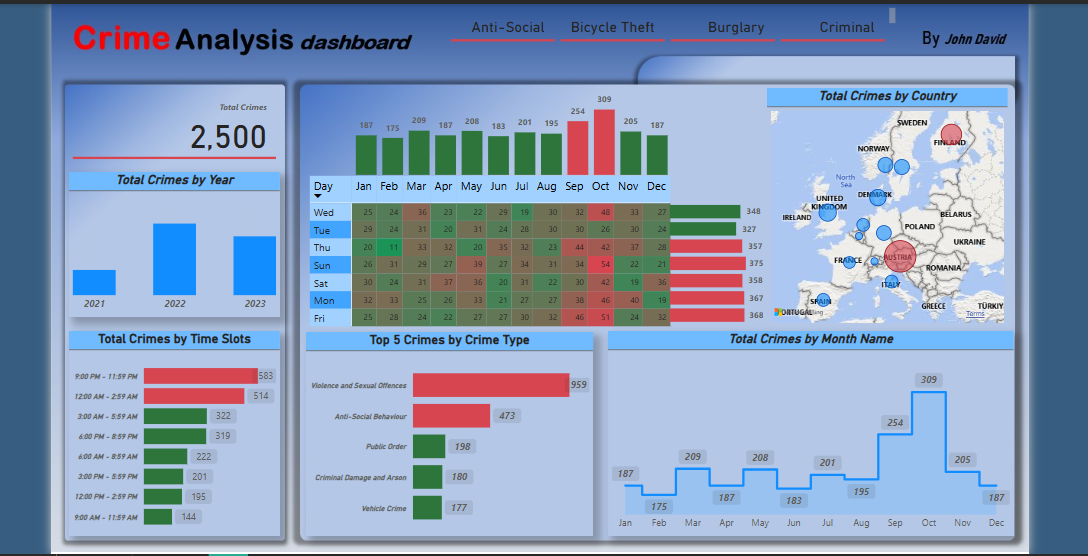

The page's visual inventory and layout, read from the dashboard file:
{"tool":"powerbi","page":{"name":"Page 1","canvas":[1280,720],"ordinal":0},"visuals":[{"type":"cardVisual","fields":{"Data":["DAX Calculations.Total Crimes"]},"box":[23.1,110.2,276.4,98.7],"z":0},{"type":"clusteredBarChart","fields":{"Category":["Data.Time Slots"],"Y":["DAX Calculations.Total Crimes"]},"box":[23.1,428.4,276.4,268.4],"z":1000},{"type":"pivotTable","fields":{"Columns":["Date table.Month Name"],"Rows":["Date table.Day Name"],"Values":["DAX Calculations.Total Crimes"]},"box":[333.3,219.6,489.8,208.9],"z":2000},{"type":"clusteredBarChart","fields":{"Category":["Date table.Day Name"],"Y":["DAX Calculations.Total Crimes"]},"box":[805.3,250.7,132.4,171.6],"z":3000},{"type":"clusteredColumnChart","fields":{"Category":["Date table.Month Name"],"Y":["DAX Calculations.Total Crimes"]},"box":[393.8,100.4,418.7,128.9],"z":4000},{"type":"clusteredColumnChart","fields":{"Category":["Date table.Year"],"Y":["DAX Calculations.Total Crimes"]},"box":[23.1,219.6,276.4,190.2],"z":5000},{"type":"areaChart","fields":{"Category":["Date table.Month Name"],"Y":["DAX Calculations.Total Crimes"]},"box":[728.5,428,531.1,268.4],"z":6000},{"type":"map","fields":{"Category":["Data.Country"],"Size":["DAX Calculations.Total Crimes"]},"box":[937.6,109.9,315.1,312.2],"z":7000},{"type":"advancedSlicerVisual","fields":{"Values":["Crime Types.Crime"]},"box":[518.2,0,592,54.2],"z":8000},{"type":"clusteredBarChart","title":"Top 5 Crimes by Crime Type","fields":{"Category":["Crime Types.Crime"],"Y":["DAX Calculations.Total Crimes"]},"box":[333.6,429.9,376.4,266.5],"z":9000}]}

Visuals, with their boxes in screenshot pixels (x1, y1, x2, y2):
cardVisual - DAX Calculations.Total Crimes: l=47, t=84, r=265, b=162
clusteredBarChart - Data.Time Slots x DAX Calculations.Total Crimes: l=47, t=335, r=265, b=547
pivotTable - Date table.Month Name x Date table.Day Name: l=291, t=170, r=677, b=335
clusteredBarChart - Date table.Day Name x DAX Calculations.Total Crimes: l=663, t=195, r=768, b=330
clusteredColumnChart - Date table.Month Name x DAX Calculations.Total Crimes: l=339, t=76, r=669, b=178
clusteredColumnChart - Date table.Year x DAX Calculations.Total Crimes: l=47, t=170, r=265, b=320
areaChart - Date table.Month Name x DAX Calculations.Total Crimes: l=603, t=335, r=1022, b=546
map - Data.Country x DAX Calculations.Total Crimes: l=768, t=84, r=1016, b=330
advancedSlicerVisual - Crime Types.Crime: l=437, t=0, r=904, b=40
"Top 5 Crimes by Crime Type" clusteredBarChart: l=291, t=336, r=588, b=546
